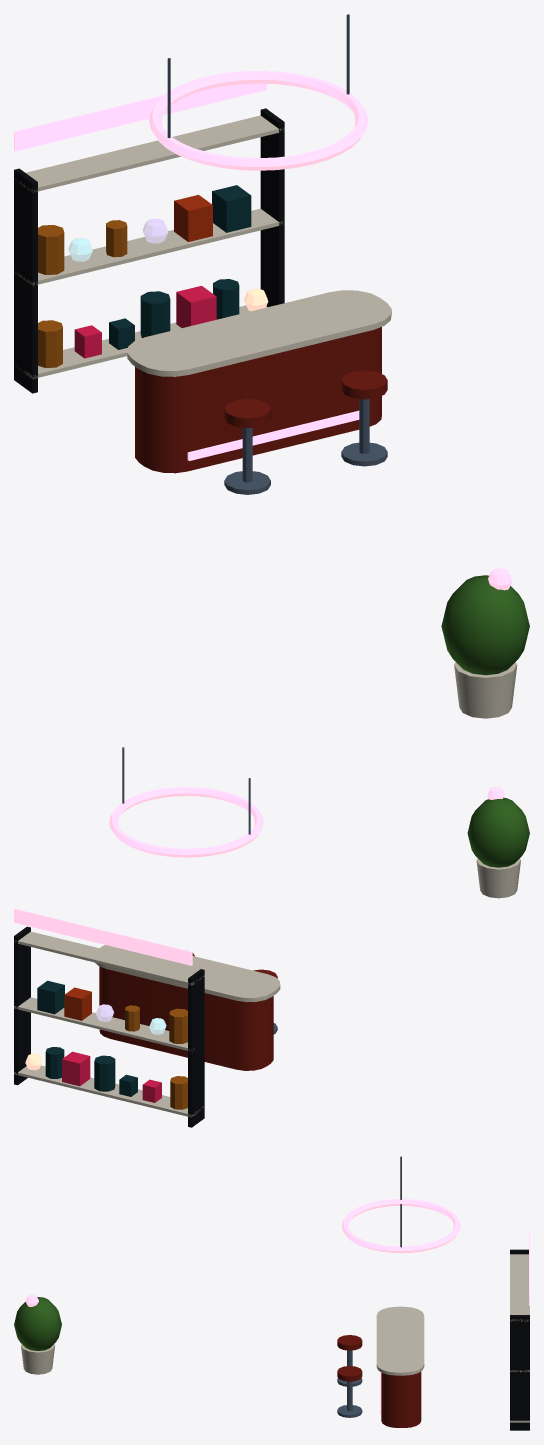
Rendered from fit_bar_1.glb.
3 renders of one model, top to bottom at view 1: azimuth 30°, elevation 25°; view 2: azimuth 150°, elevation 25°; view 3: azimuth 270°, elevation 25°, orthographic. The views are drawn at different scales.
Visible parts, largest first — view 1: fit_bar_1; view 2: fit_bar_1; view 3: fit_bar_1.
Part boxes in pixels (box(x1,y1,x2,y2)): fit_bar_1: box(14, 14, 529, 718); fit_bar_1: box(14, 747, 529, 1127); fit_bar_1: box(14, 1156, 529, 1430).
Size of the model in its own units: 2.98 by 4.18 by 9.02.
